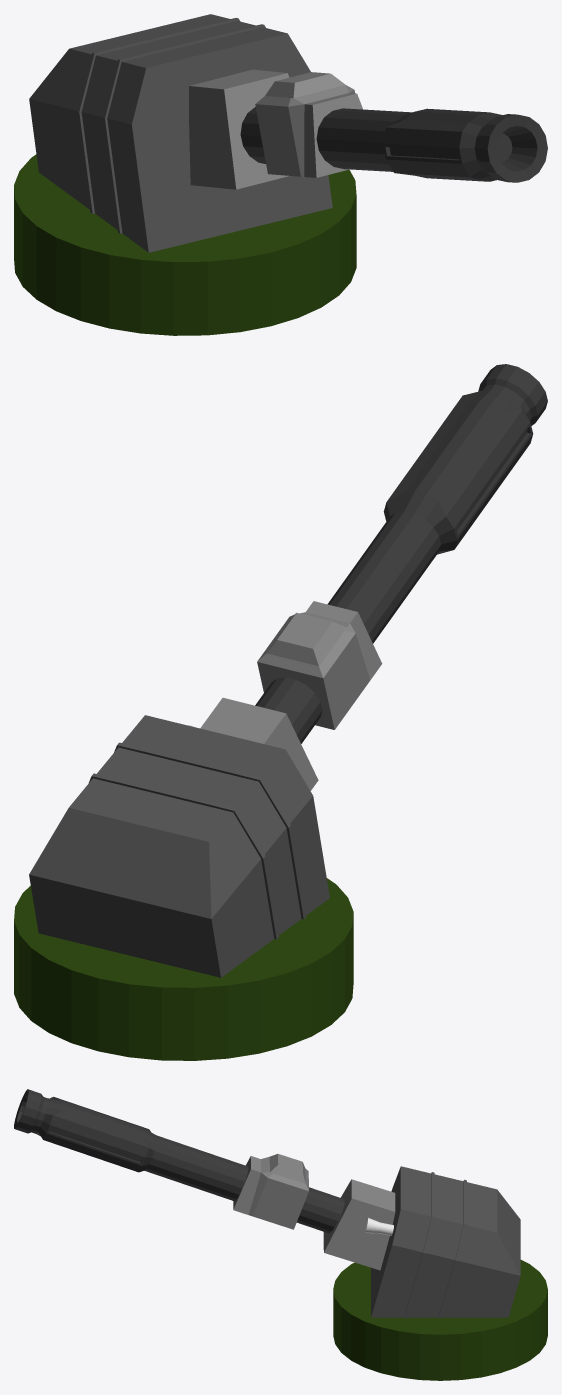
Rendered from Laser_Cannon.fbx.
3 views of the same model, one above another, from view 1: azimuth 30°, elevation 25°; view 2: azimuth 150°, elevation 25°; view 3: azimuth 270°, elevation 25° (orthographic). The views are drawn at different scales.
Parts seen in each view (by area): view 1: Weapon; view 2: Weapon; view 3: Weapon.
Boxes of the visible parts, x1,y1,x2,y2 form: Weapon: (14, 14, 547, 335); Weapon: (14, 364, 547, 1060); Weapon: (14, 1089, 547, 1380).
Bounding box in the file's own units: 113 × 281 × 141.
